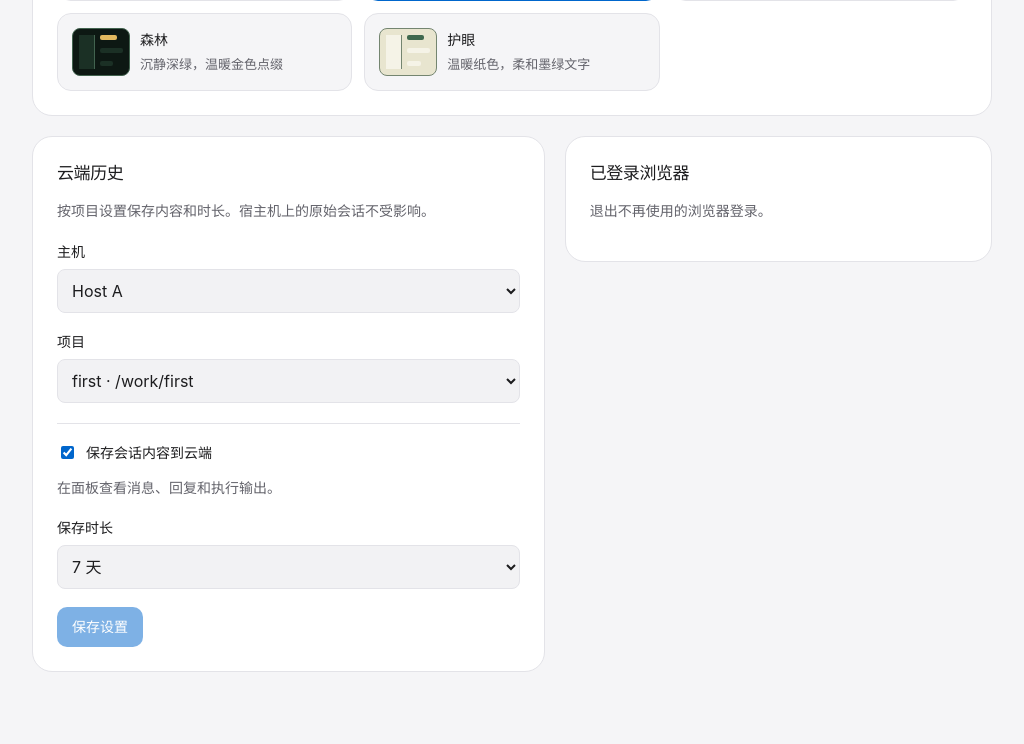
Test: loads all project pages and saves only the selected project after explicit submission
(page scrolled)
Select "second · /work/second" in the dropdown named "历史设置项目". click: (288, 381)
box: [57,359,520,403]
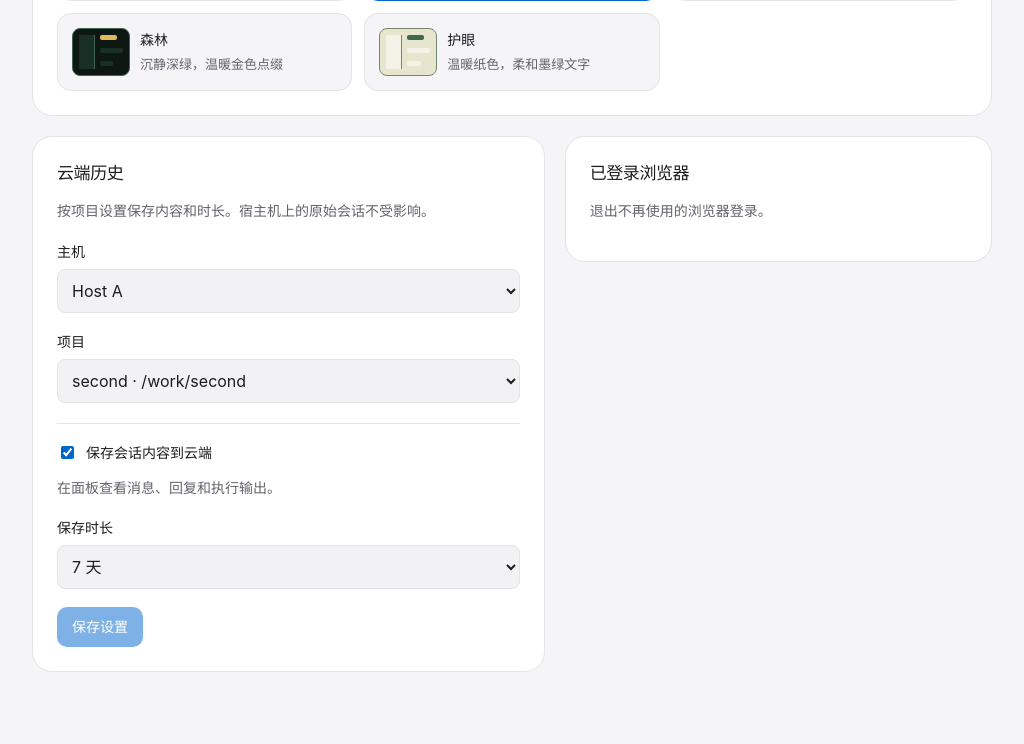
Select "30 天" in the dropdown named "历史保存时长". click: (288, 567)
box: [57,545,520,589]
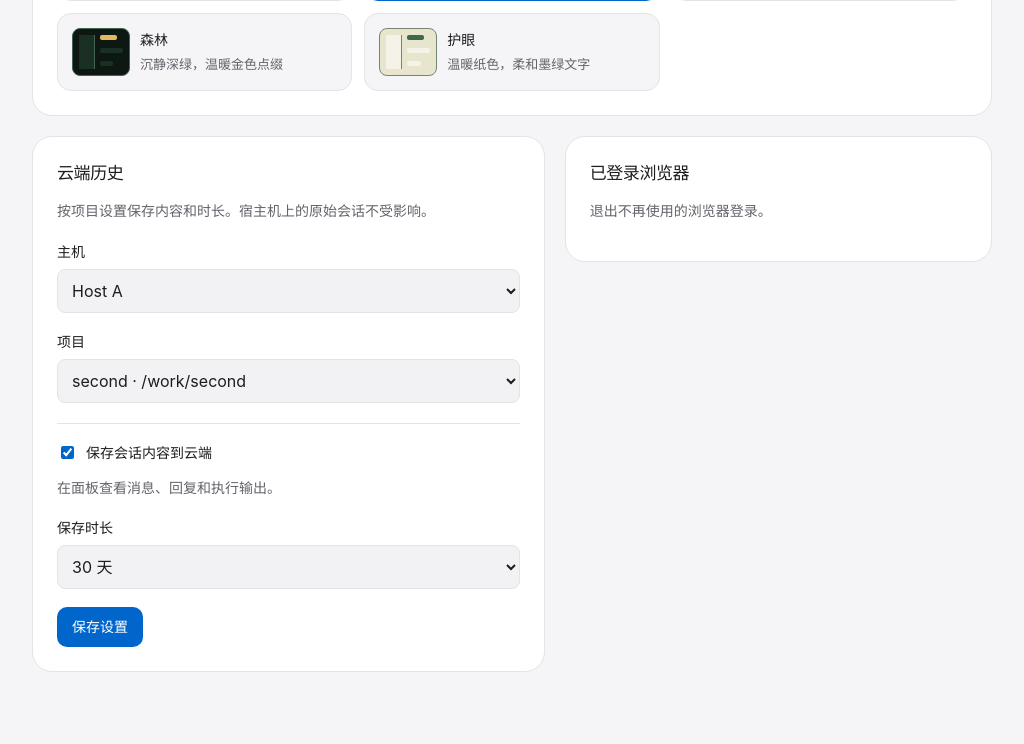
Click the button "保存设置". click: click(100, 627)
box: [57,607,143,647]
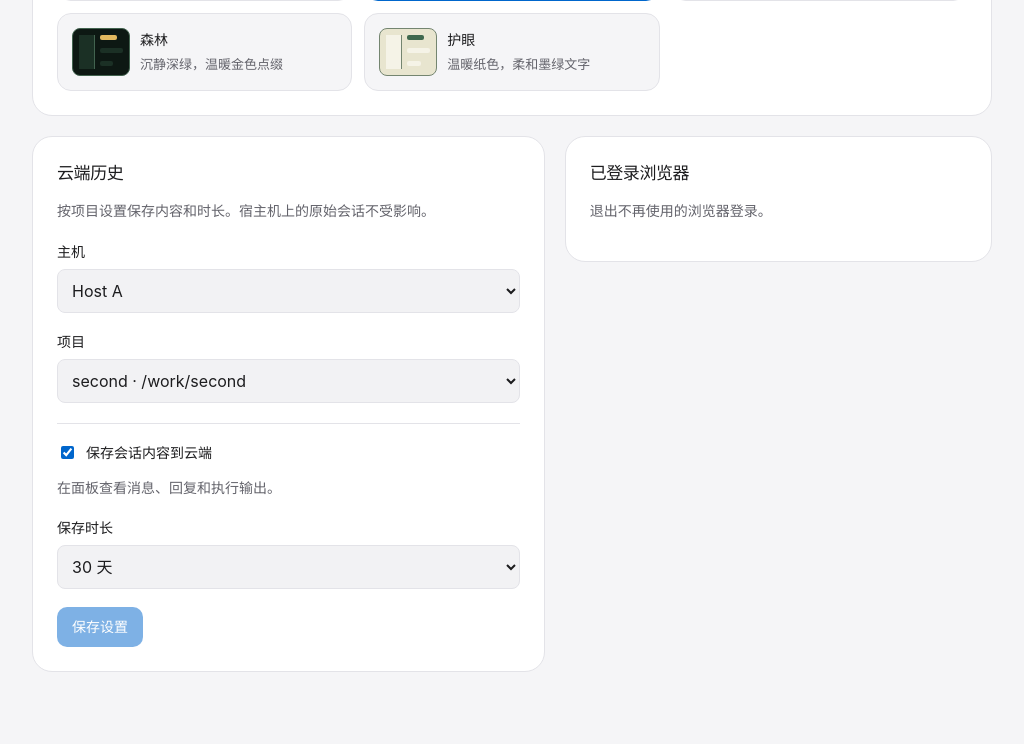
Result: the button "保存设置" is disabled at [57,607,143,647]
